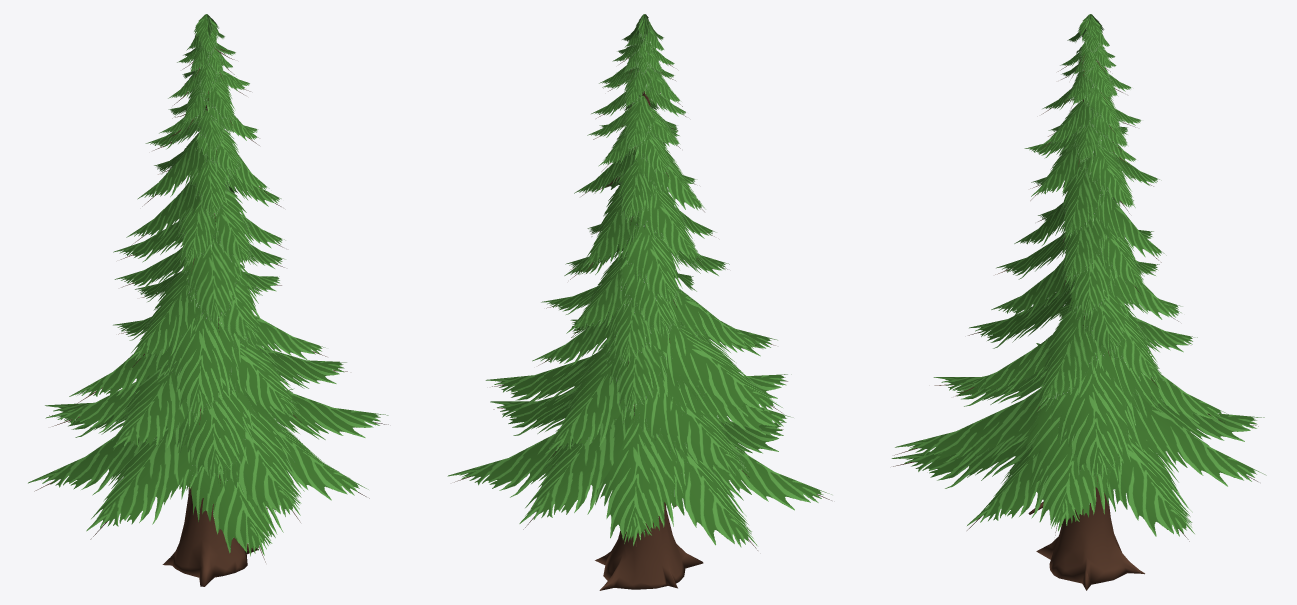
Rendered from pine_tree_01.fbx.
The picture shows the model from 3 angles, left to right: view 1: azimuth 30°, elevation 25°; view 2: azimuth 150°, elevation 25°; view 3: azimuth 270°, elevation 25°; orthographic projection. The views are drawn at different scales.
Parts seen in each view (by area): view 1: pine_leaves, Trunk; view 2: pine_leaves, Trunk; view 3: pine_leaves, Trunk.
Boxes of the visible parts, x1,y1,x2,y2 form: pine_leaves: (28, 14, 388, 556); Trunk: (34, 49, 388, 586); pine_leaves: (447, 14, 831, 547); Trunk: (454, 47, 831, 590); pine_leaves: (891, 14, 1266, 536); Trunk: (893, 55, 1258, 590).
Bounding box in the file's own units: 1289 × 1960 × 1306.
